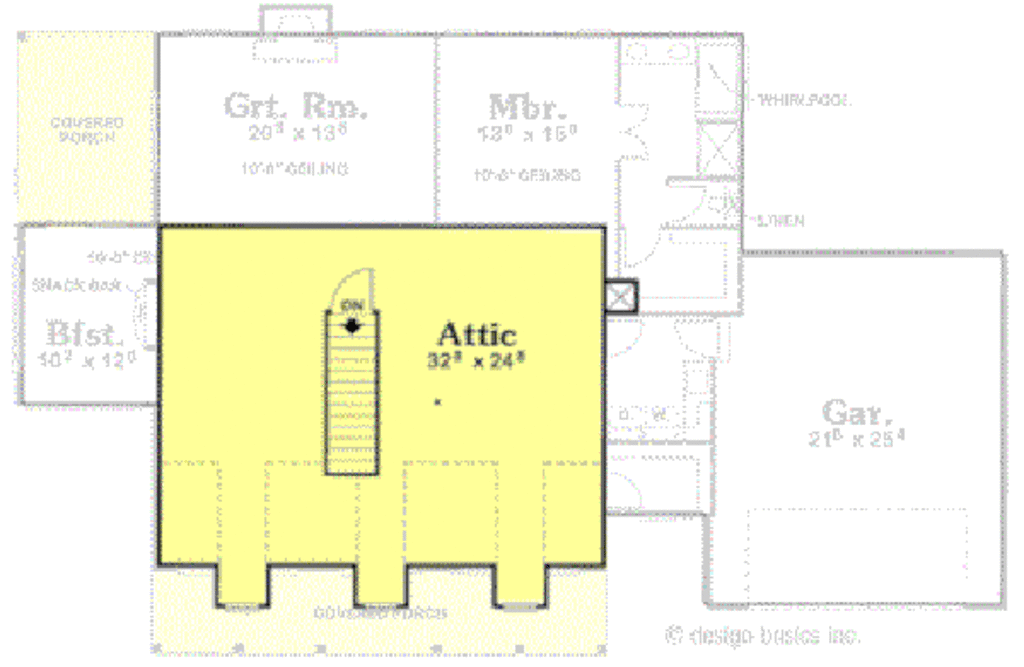stairs: (314, 306, 385, 483)
